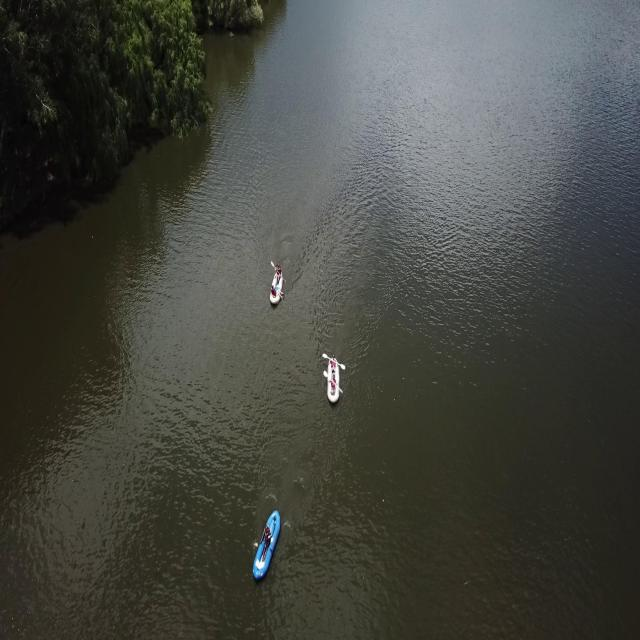kayak: (251, 512, 284, 582), (322, 356, 345, 403), (268, 267, 288, 306)
